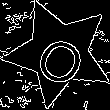O_NE: (27, 20, 91, 86)
